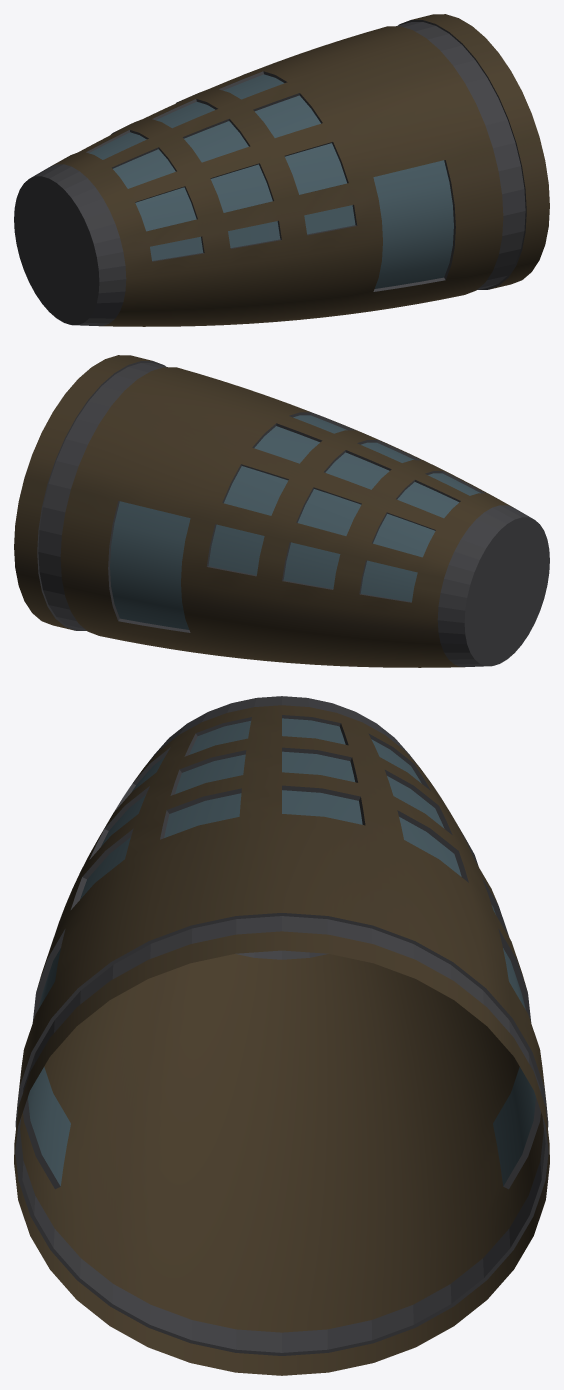
The model's file is fh_tail_bomber_2.glb.
The picture shows the model from 3 angles, top to bottom: view 1: azimuth 30°, elevation 25°; view 2: azimuth 150°, elevation 25°; view 3: azimuth 270°, elevation 25°; orthographic projection. The views are drawn at different scales.
Parts seen in each view (by area): view 1: tail_cabin; view 2: tail_cabin; view 3: tail_cabin.
Boxes of the visible parts, box(x1,y1,x2,y2) form: tail_cabin: box(14, 14, 549, 326); tail_cabin: box(14, 355, 549, 667); tail_cabin: box(14, 696, 549, 1375).
Bounding box in the file's own units: 0.083 × 0.047 × 0.0537.
